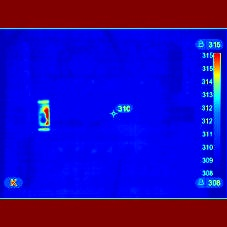Less: (39, 115, 47, 125)
